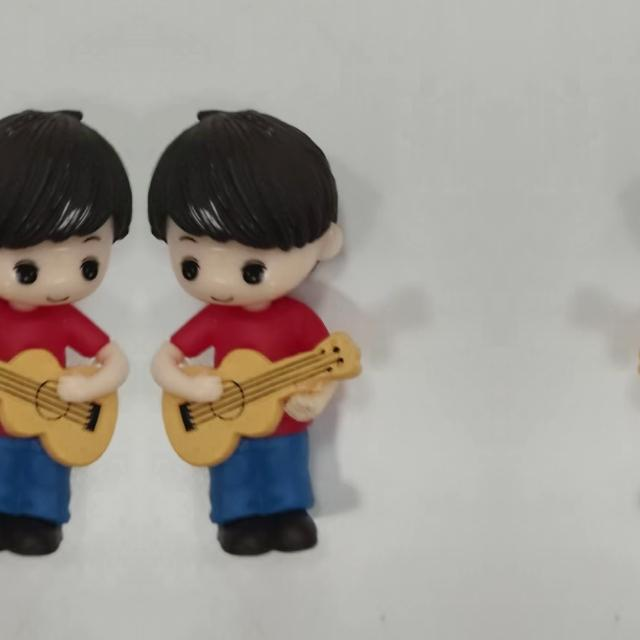man cloth: (170, 296, 344, 436), (0, 296, 109, 435)
man head: (148, 104, 342, 314), (0, 104, 132, 314)
trousers: (203, 426, 327, 556), (0, 426, 77, 556)
